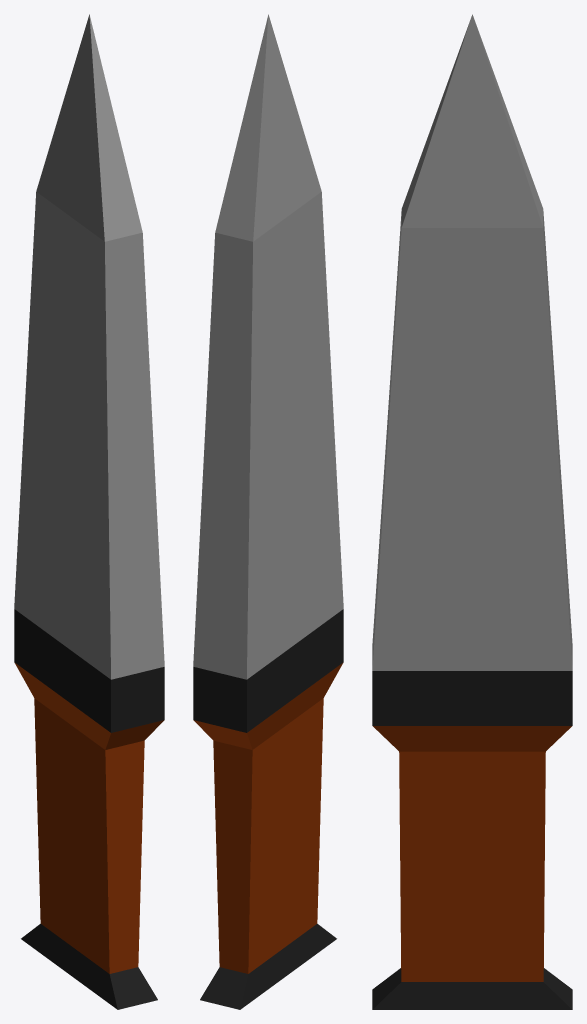
File: dagger.obj
3 renders of one model, left to right at view 1: azimuth 30°, elevation 25°; view 2: azimuth 150°, elevation 25°; view 3: azimuth 270°, elevation 25°, orthographic. The views are drawn at different scales.
Parts seen in each view (by area): view 1: dagger; view 2: dagger; view 3: dagger.
Boxes of the visible parts, x1,y1,x2,y2 form: dagger: (14, 14, 164, 1009); dagger: (193, 14, 343, 1009); dagger: (372, 14, 572, 1009).
Bounding box in the file's own units: 0.0103 × 0.1753 × 0.0323.
